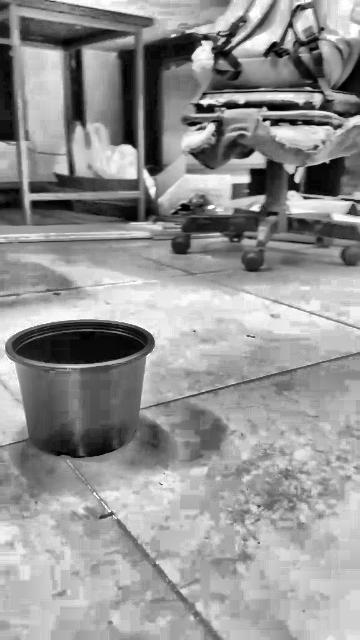pot: (6, 320, 153, 458)
